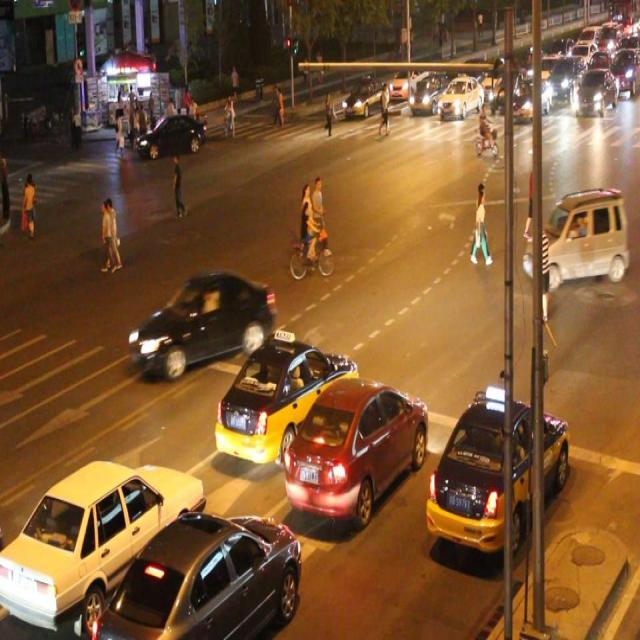car: (1, 457, 204, 630), (96, 508, 300, 640), (425, 395, 566, 553), (285, 375, 425, 519), (217, 335, 357, 463), (134, 272, 275, 376), (523, 188, 623, 284), (137, 112, 206, 158), (342, 72, 384, 119), (438, 74, 482, 118), (410, 71, 445, 113)
